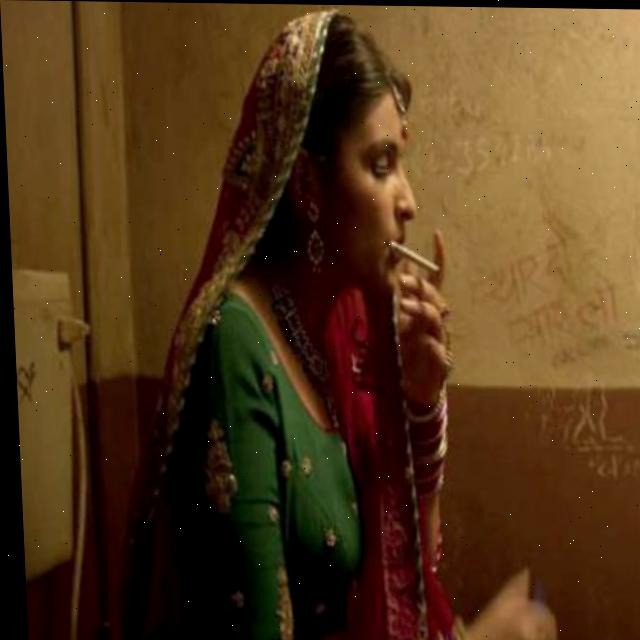cigarette: (390, 240, 437, 273)
